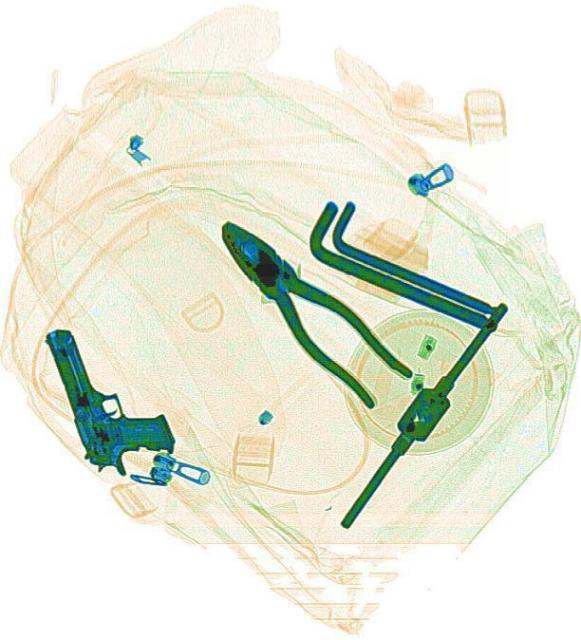Gun: (40, 304, 176, 484)
Pliers: (197, 200, 412, 416)
